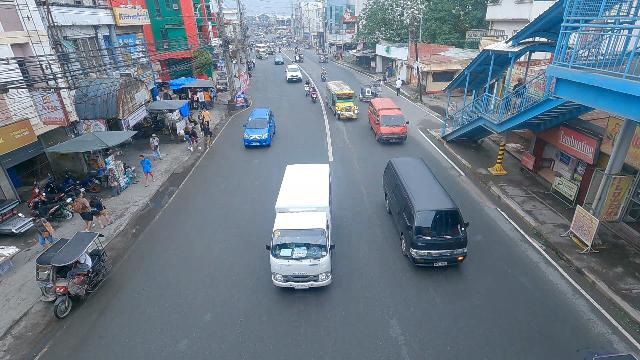car: (243, 107, 276, 148), (284, 64, 303, 83), (273, 55, 285, 65)
jeepney: (325, 80, 359, 120), (256, 49, 269, 60), (254, 43, 268, 52)
motorcycle: (310, 84, 318, 103), (303, 78, 311, 96), (320, 67, 327, 82), (294, 46, 298, 53), (278, 46, 282, 53)
van: (382, 156, 469, 267), (267, 163, 333, 291), (367, 97, 408, 145)
